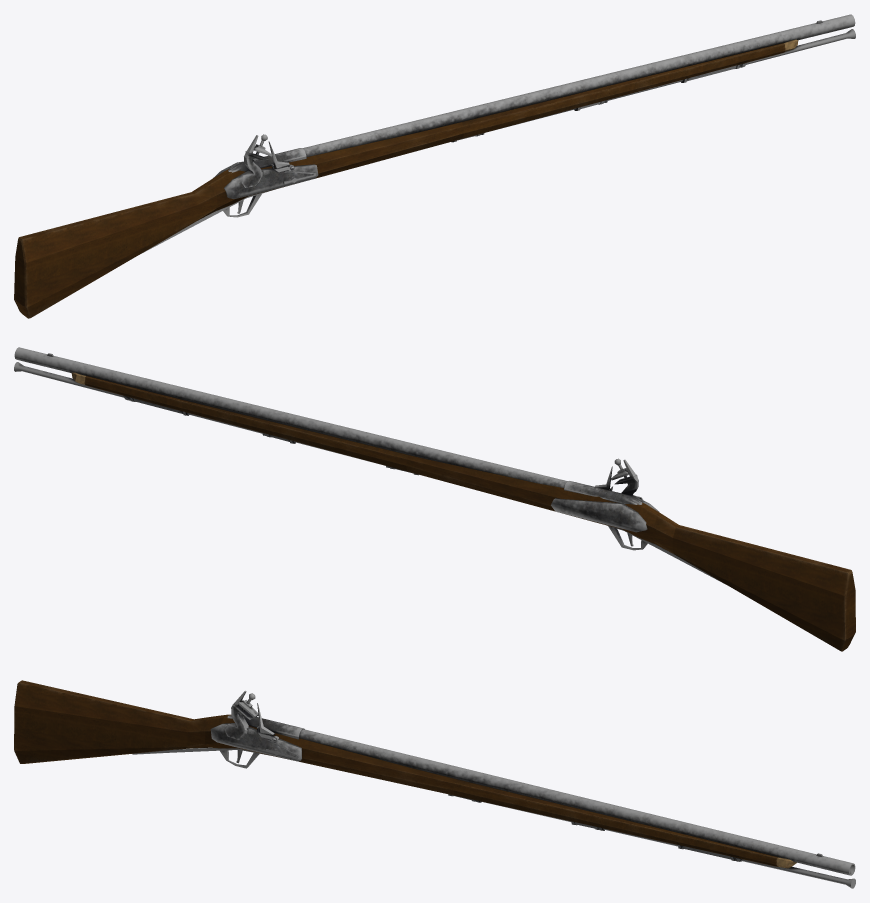
File: musket.glb
The picture shows the model from 3 angles, top to bottom: view 1: azimuth 30°, elevation 25°; view 2: azimuth 150°, elevation 25°; view 3: azimuth 330°, elevation 25°; orthographic projection.
Visible parts, largest first — view 1: Object_2; view 2: Object_2; view 3: Object_2.
Part boxes in pixels (x1,y1,x2,y2): Object_2: (14, 14, 855, 318); Object_2: (14, 347, 855, 651); Object_2: (14, 680, 855, 888).
Bounding box in the file's own units: 17.63 × 2.64 × 0.6657.
Materials: 1 (1 with a texture image).
